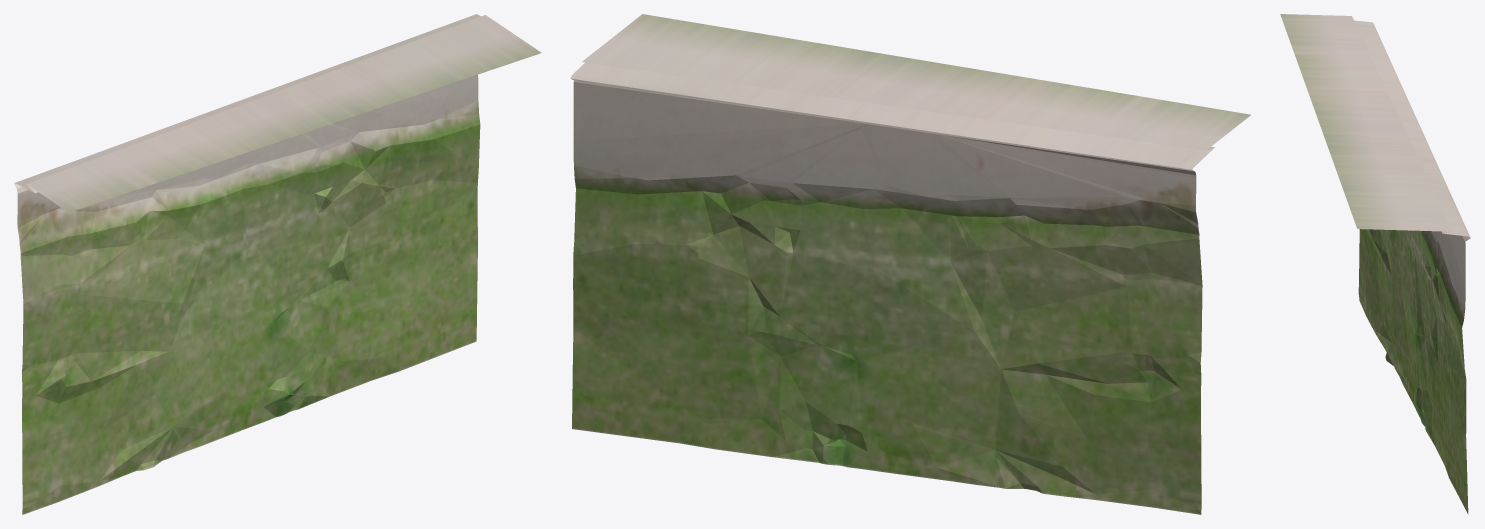
File: map_270_30.obj
3 renders of one model, left to right at view 1: azimuth 30°, elevation 25°; view 2: azimuth 150°, elevation 25°; view 3: azimuth 270°, elevation 25°, orthographic. The views are drawn at different scales.
Parts seen in each view (by area): view 1: grp1; view 2: grp1; view 3: grp1.
Boxes of the visible parts, x1,y1,x2,y2 form: grp1: (14, 14, 541, 514); grp1: (570, 14, 1251, 514); grp1: (1280, 14, 1470, 514).
Bounding box in the file's own units: 10 × 6.2 × 3.75.
1 material, 1 textured.
